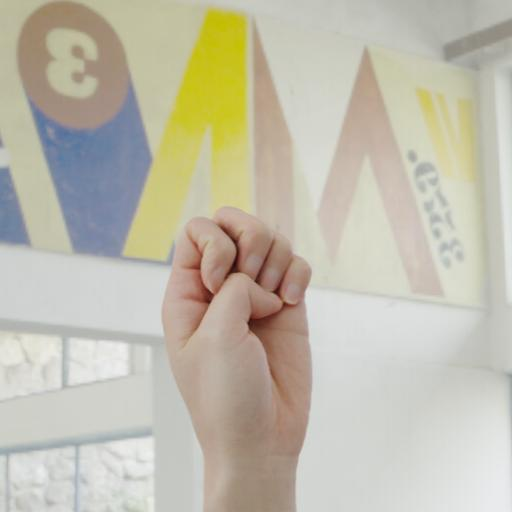E: (143, 191, 340, 457)
